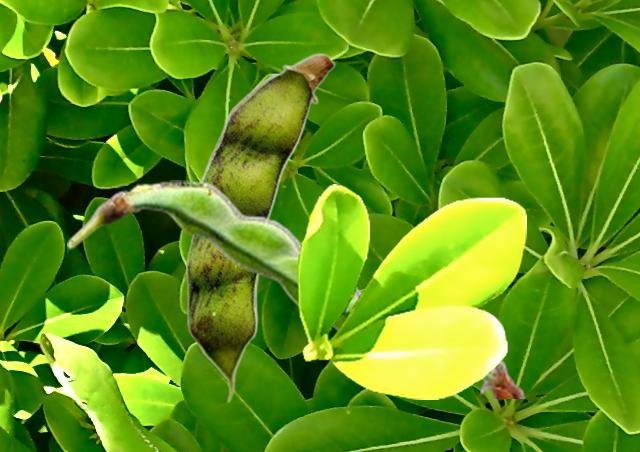pea: (67, 180, 525, 397), (186, 52, 335, 402)
